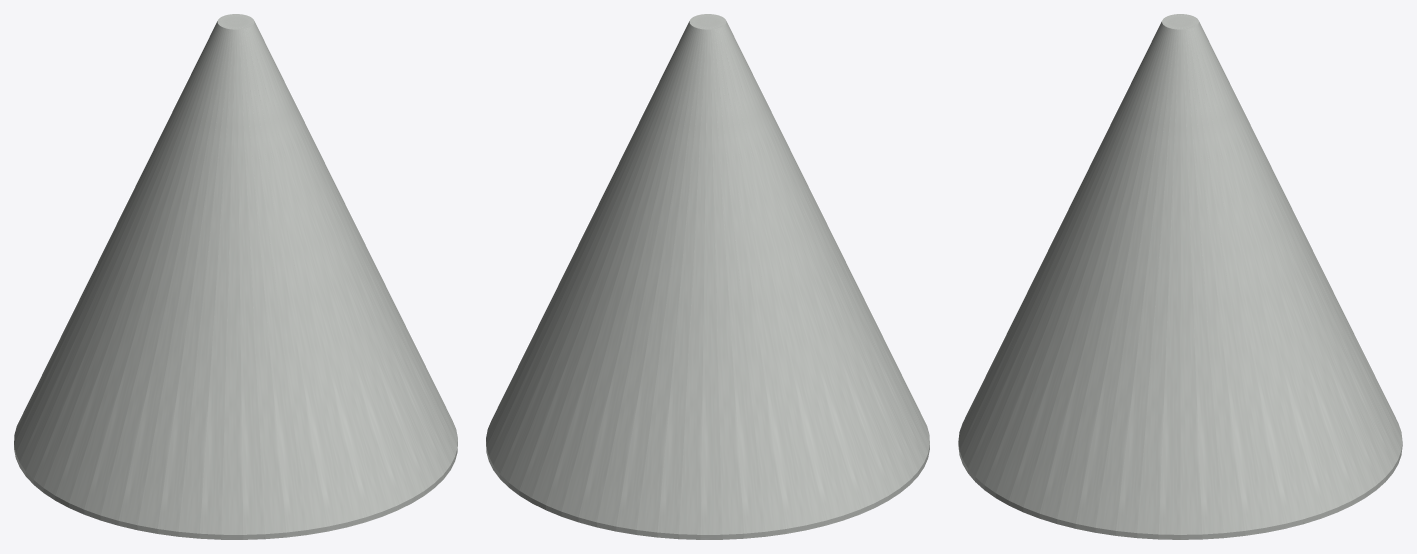
File: body.obj
3 views of the same model, side by side, from view 1: azimuth 30°, elevation 25°; view 2: azimuth 150°, elevation 25°; view 3: azimuth 270°, elevation 25° (orthographic).
Size of the model in its own units: 0.96 by 1.01 by 0.96.
